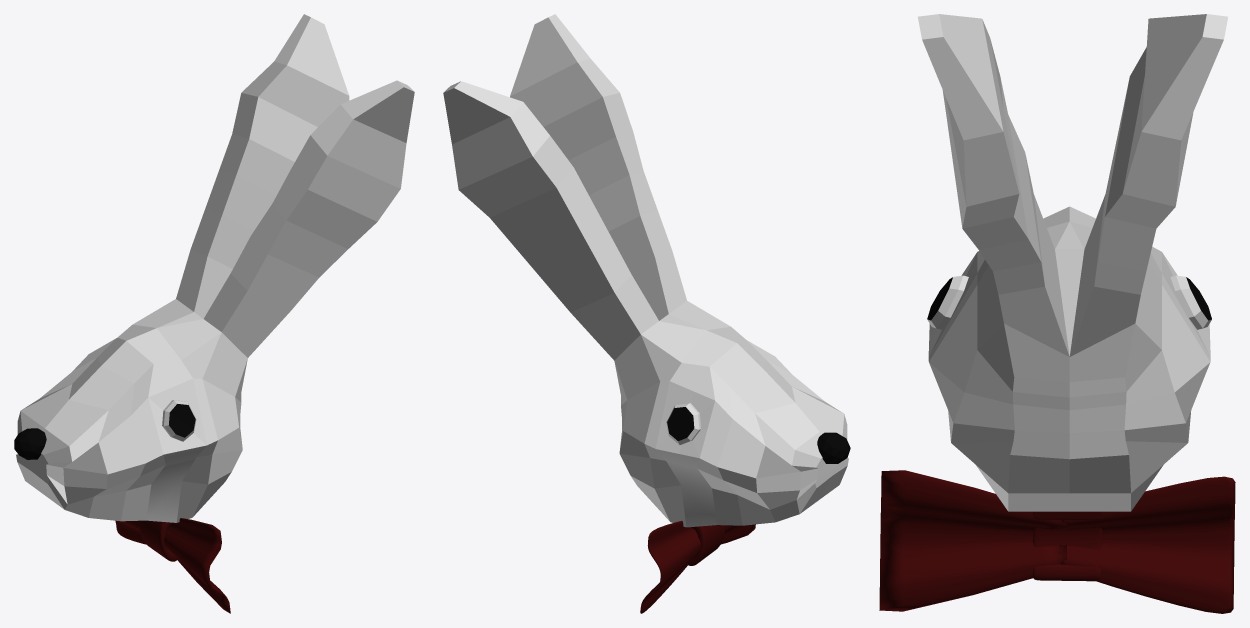
File: rabbitjune6.FBX
The picture shows the model from 3 angles, left to right: view 1: azimuth 30°, elevation 25°; view 2: azimuth 150°, elevation 25°; view 3: azimuth 270°, elevation 25°; orthographic projection. The views are drawn at different scales.
Visible parts, largest first — view 1: Plane001, Box003, GeoSphere001, rabbbit; view 2: Plane001, Box003, GeoSphere001, rabbbit; view 3: Plane001, Box003, rabbbit.
Boxes of the visible parts, x1,y1,x2,y2 form: Plane001: (16,14,414,522); Box003: (115,518,230,613); GeoSphere001: (14,428,46,459); rabbbit: (169,404,195,437); Plane001: (443,14,848,527); Box003: (640,521,755,613); GeoSphere001: (817,432,850,463); rabbbit: (667,407,694,441); Plane001: (918,14,1227,511); Box003: (879,470,1235,613); rabbbit: (927,277,1211,320).
Bounding box in the file's own units: 129 × 164 × 71.59.
